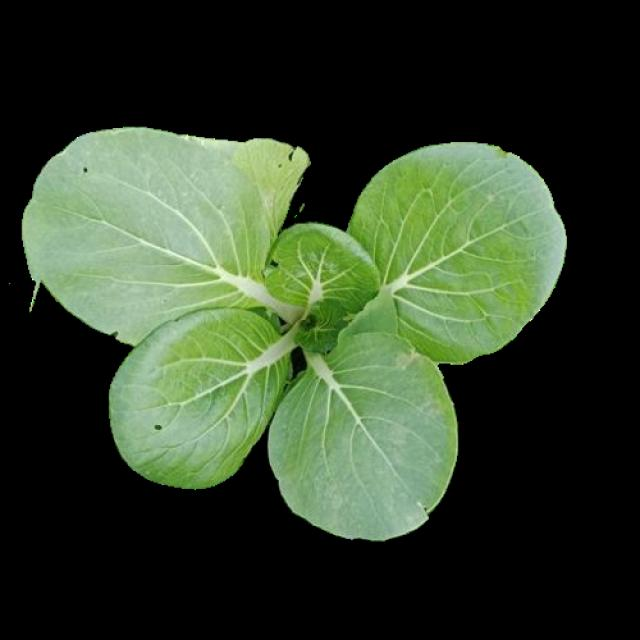not-mature: (26, 132, 562, 538)
unhealthy: (28, 133, 227, 343), (268, 333, 456, 532), (108, 311, 293, 489), (232, 141, 310, 229)
